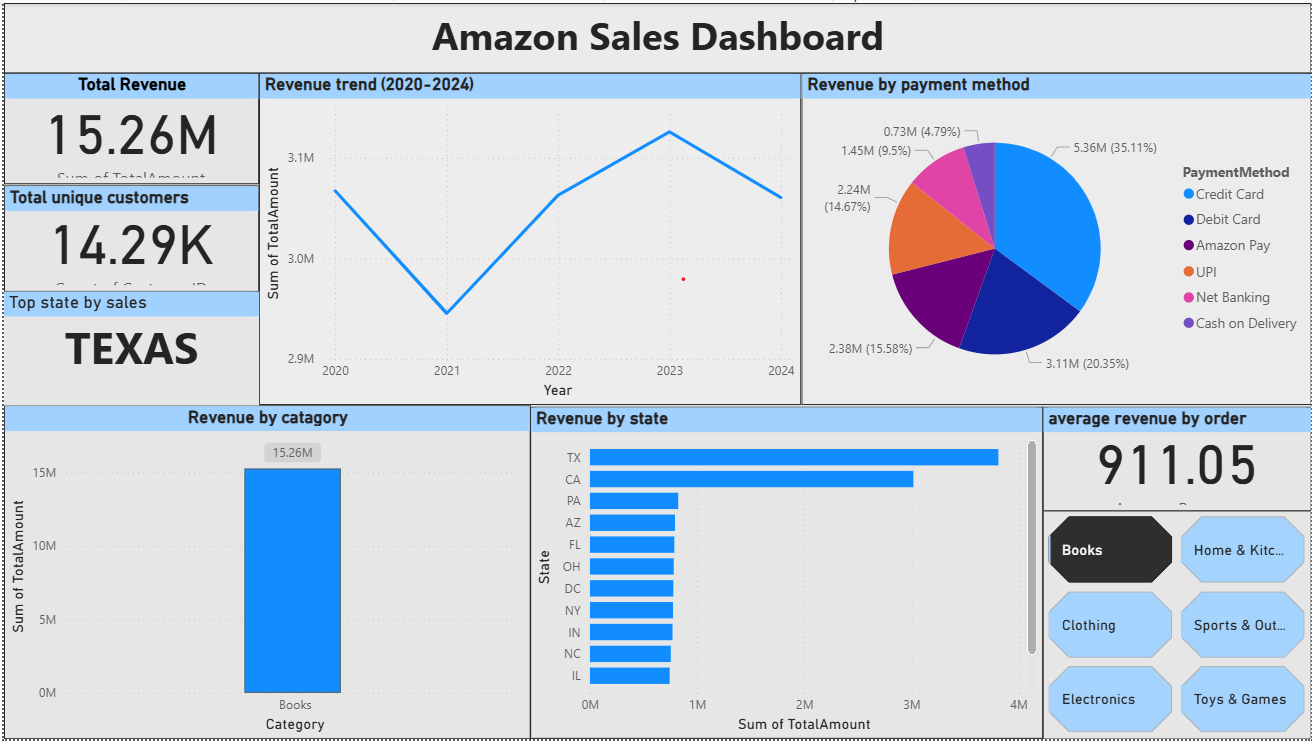

The page's visual inventory and layout, read from the dashboard file:
{"tool":"powerbi","page":{"name":"Page 1","canvas":[1280,720],"ordinal":0},"visuals":[{"type":"card","title":"Total Revenue","fields":{"Values":["Sum(Amazon.TotalAmount)"]},"box":[0,68.5,249.5,108.8],"z":0},{"type":"clusteredColumnChart","title":"Revenue by catagory","fields":{"Category":["Amazon.Category"],"Y":["Sum(Amazon.TotalAmount)"]},"box":[0,393.8,515,326.2],"z":1000},{"type":"clusteredBarChart","title":"Revenue by state","fields":{"Category":["Amazon.State"],"Y":["Sum(Amazon.TotalAmount)"]},"box":[515,395,501.2,325],"z":2000},{"type":"lineChart","title":"Revenue trend (2020-2024)","fields":{"Category":["Amazon.OrderDate.Variation.Date Hierarchy.Year","Amazon.OrderDate.Variation.Date Hierarchy.Quarter","Amazon.OrderDate.Variation.Date Hierarchy.Month","Amazon.OrderDate.Variation.Date Hierarchy.Day"],"Y":["Sum(Amazon.TotalAmount)"]},"box":[250,68.8,530,325],"z":3000},{"type":"pieChart","title":"Revenue by payment method","fields":{"Category":["Amazon.PaymentMethod"],"Y":["Sum(Amazon.TotalAmount)"]},"box":[780,68.8,500,325],"z":4000},{"type":"card","title":"average revenue by order","fields":{"Values":["Amazon.Average Revenue"]},"box":[1016.2,395,263.8,102.5],"z":5000},{"type":"card","title":"Total unique customers","fields":{"Values":["Count(Amazon.CustomerID)"]},"box":[0,178.5,249.5,103.9],"z":6000},{"type":"advancedSlicerVisual","fields":{"Values":["Amazon.Category"]},"box":[1016.2,496.2,263.8,223.8],"z":7000},{"type":"textbox","box":[0,0,1280,68.8],"z":8000},{"type":"textbox","title":"Top state by sales","box":[0,282.5,249.5,111.3],"z":9000}]}

Visuals, with their boxes in screenshot pixels (x1, y1, x2, y2), scaled from the page's 1280x720 canvas onto the 1312x742 screenshot:
"Total Revenue" card: 0,71,256,183
"Revenue by catagory" clusteredColumnChart: 0,406,528,741
"Revenue by state" clusteredBarChart: 528,407,1042,741
"Revenue trend (2020-2024)" lineChart: 256,71,799,406
"Revenue by payment method" pieChart: 799,71,1311,406
"average revenue by order" card: 1042,407,1311,513
"Total unique customers" card: 0,184,256,291
advancedSlicerVisual - Amazon.Category: 1042,511,1311,741
textbox: 0,0,1311,71
"Top state by sales" textbox: 0,291,256,406
